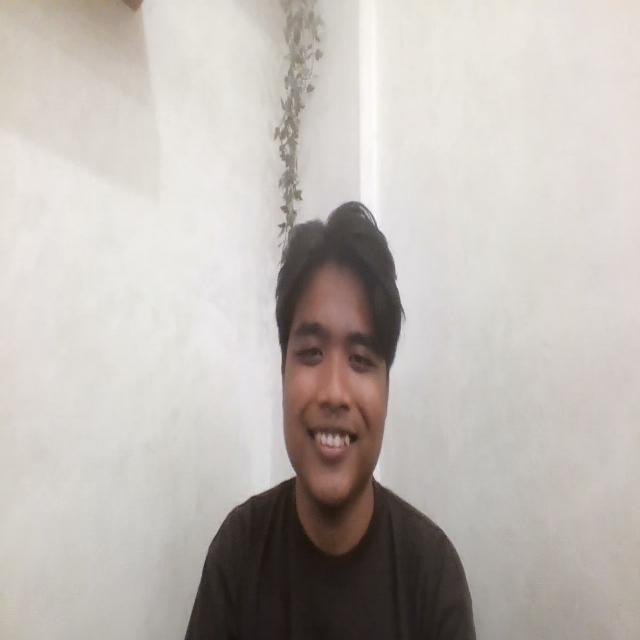sem_oculos: (270, 306, 397, 386)
